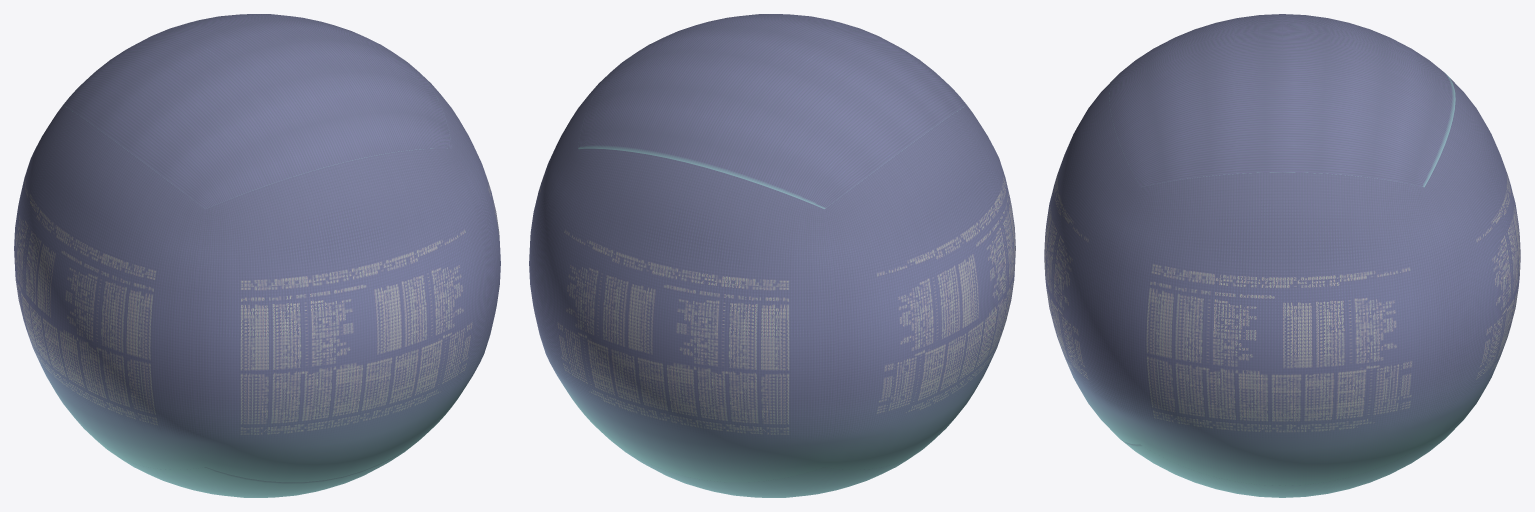
File: SkyboxSphere_Error.fbx
The picture shows the model from 3 angles, left to right: view 1: azimuth 30°, elevation 25°; view 2: azimuth 150°, elevation 25°; view 3: azimuth 270°, elevation 25°; orthographic projection.
Parts seen in each view (by area): view 1: Cube; view 2: Cube; view 3: Cube.
Part boxes in pixels (x1,y1,x2,y2): Cube: (14, 14, 500, 497); Cube: (529, 14, 1015, 497); Cube: (1044, 14, 1520, 497).
Bounding box in the file's own units: 19593 × 19593 × 19593.
